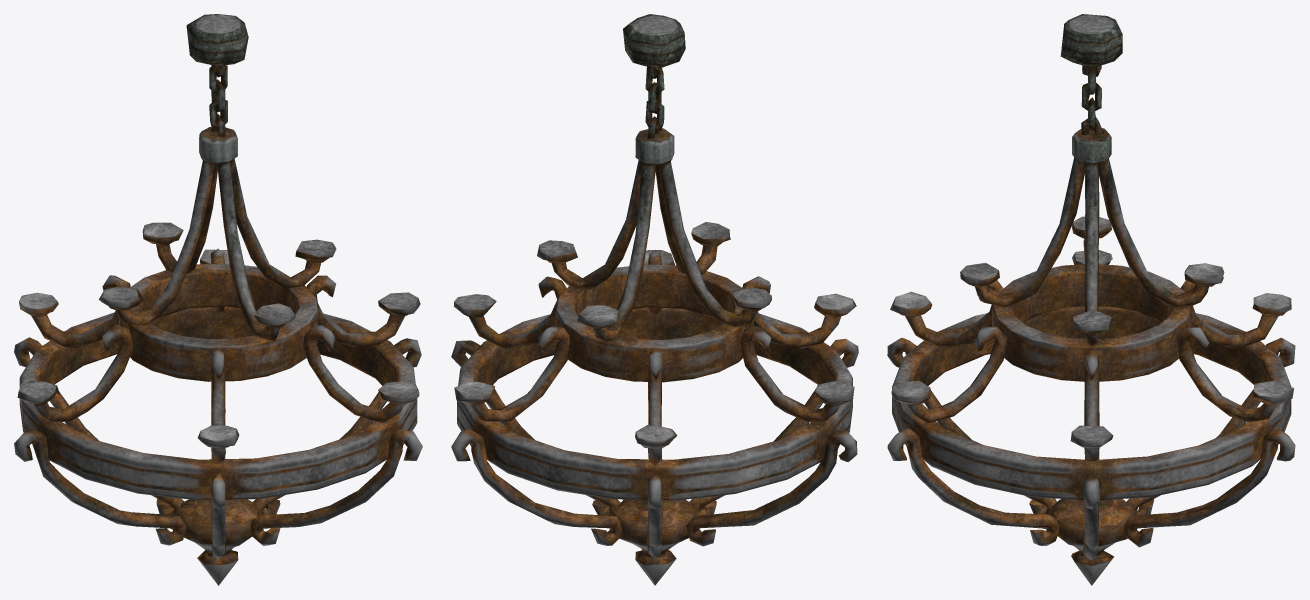
File: SM_Chandelier.fbx
The picture shows the model from 3 angles, left to right: view 1: azimuth 30°, elevation 25°; view 2: azimuth 150°, elevation 25°; view 3: azimuth 270°, elevation 25°; orthographic projection.
Visible parts, largest first — view 1: SM_Chandelier_LOD0; view 2: SM_Chandelier_LOD0; view 3: SM_Chandelier_LOD0.
Boxes of the visible parts, x1,y1,x2,y2 form: SM_Chandelier_LOD0: (14,14,422,585); SM_Chandelier_LOD0: (451,14,858,585); SM_Chandelier_LOD0: (887,14,1295,585).
Bounding box in the file's own units: 84.48 × 73.59 × 112.
